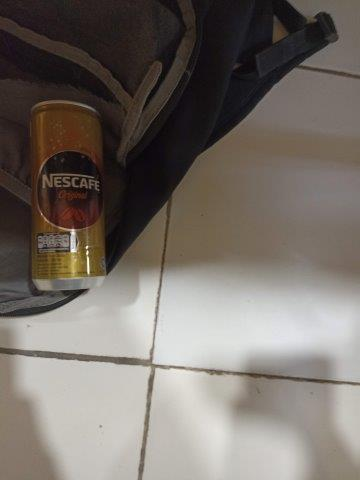kaleng: (29, 100, 107, 289)
